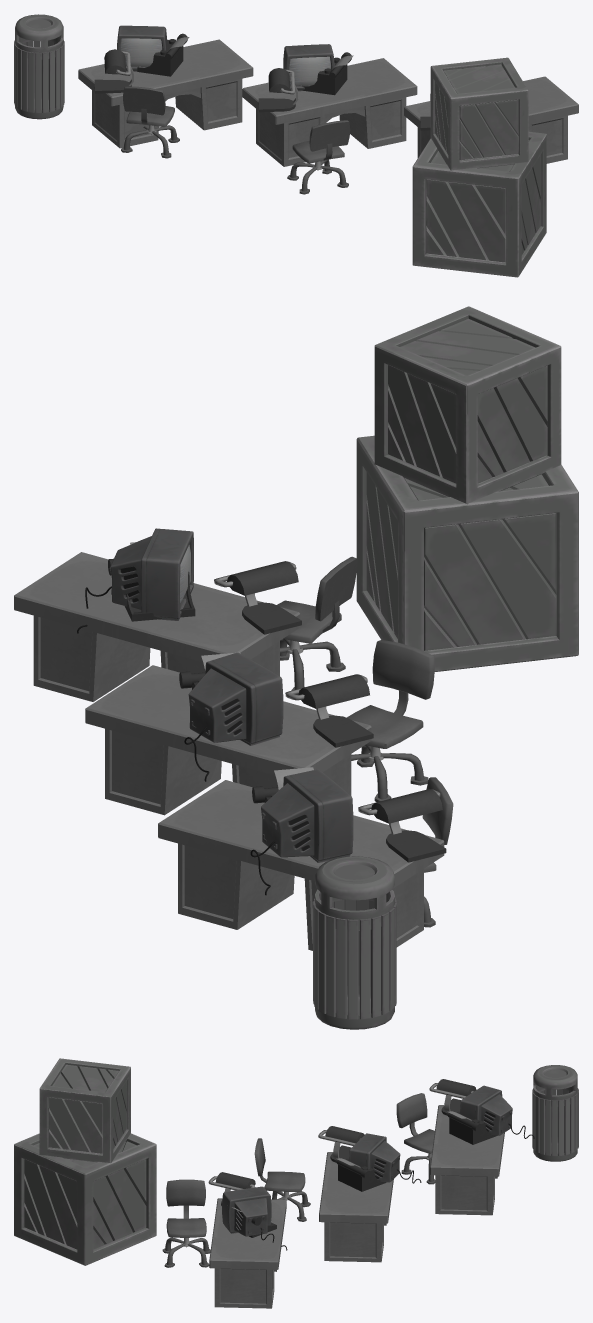
Rendered from Desk.fbx.
The picture shows the model from 3 angles, top to bottom: view 1: azimuth 30°, elevation 25°; view 2: azimuth 150°, elevation 25°; view 3: azimuth 270°, elevation 25°; orthographic projection. The views are drawn at different scales.
Parts seen in each view (by area): view 1: woodbox_uv2 (×2), Desk (×3), woodBoxPlanks6 (×2), desk10 (×3), desk12 (×2), OfficeChair (1), OfficeChair (2), tvScreen (3), tvScreen (4), thrashCanPart20, woodBoxPlanks3, typeMachineBase1 (×2) (+10 smaller); view 2: Desk (×3), woodbox_uv2 (×2), woodBoxPlanks4 (×2), desk10 (×3), woodBoxPlanks2 (×2), tvBottom (×3), OfficeChair (1), desk12 (×3), deskLamp4 (×3), thrashCanPart20, tvScreen (2), OfficeChair (+13 smaller); view 3: woodbox_uv2 (×2), Desk (×3), desk10 (×3), woodBoxPlanks1 (×2), woodBoxPlanks2 (×2), tvBottom (×3), OfficeChair, OfficeChair (2), OfficeChair (1), thrashCanPart20, typeMachineBase1 (×2), deskLamp4 (×3) (+9 smaller).
Part boxes in pixels (bbox=[...]): woodbox_uv2 (×2): bbox=[412, 57, 546, 277]; Desk (×3): bbox=[78, 39, 578, 137]; woodBoxPlanks6 (×2): bbox=[426, 99, 518, 262]; desk10 (×3): bbox=[175, 78, 567, 163]; desk12 (×2): bbox=[92, 90, 324, 166]; OfficeChair (1): bbox=[287, 120, 350, 194]; OfficeChair (2): bbox=[121, 86, 179, 158]; tvScreen (3): bbox=[283, 44, 334, 91]; tvScreen (4): bbox=[117, 25, 166, 71]; thrashCanPart20: bbox=[15, 14, 63, 59]; woodBoxPlanks3: bbox=[443, 64, 514, 93]; typeMachineBase1 (×2): bbox=[137, 39, 347, 95]; Desk (×3): bbox=[14, 552, 444, 888]; woodbox_uv2 (×2): bbox=[356, 306, 578, 671]; woodBoxPlanks4 (×2): bbox=[424, 365, 556, 650]; desk10 (×3): bbox=[33, 615, 294, 929]; woodBoxPlanks2 (×2): bbox=[366, 365, 456, 638]; tvBottom (×3): bbox=[110, 536, 314, 857]; OfficeChair (1): bbox=[346, 640, 434, 801]; desk12 (×3): bbox=[160, 641, 423, 950]; deskLamp4 (×3): bbox=[227, 561, 442, 823]; thrashCanPart20: bbox=[315, 856, 394, 930]; tvScreen (2): bbox=[141, 528, 193, 620]; OfficeChair: bbox=[276, 556, 357, 694]; woodbox_uv2 (×2): bbox=[14, 1058, 156, 1265]; Desk (×3): bbox=[209, 1105, 504, 1269]; desk10 (×3): bbox=[214, 1175, 494, 1308]; woodBoxPlanks1 (×2): bbox=[24, 1097, 102, 1249]; woodBoxPlanks2 (×2): bbox=[93, 1081, 146, 1249]; tvBottom (×3): bbox=[234, 1094, 512, 1236]; OfficeChair: bbox=[162, 1179, 210, 1267]; OfficeChair (2): bbox=[396, 1093, 435, 1184]; OfficeChair (1): bbox=[254, 1138, 310, 1221]; thrashCanPart20: bbox=[533, 1065, 577, 1106]; typeMachineBase1 (×2): bbox=[338, 1117, 497, 1191]; deskLamp4 (×3): bbox=[215, 1079, 476, 1188].
Size of the model in its own units: 16.07 by 7.02 by 22.47.
